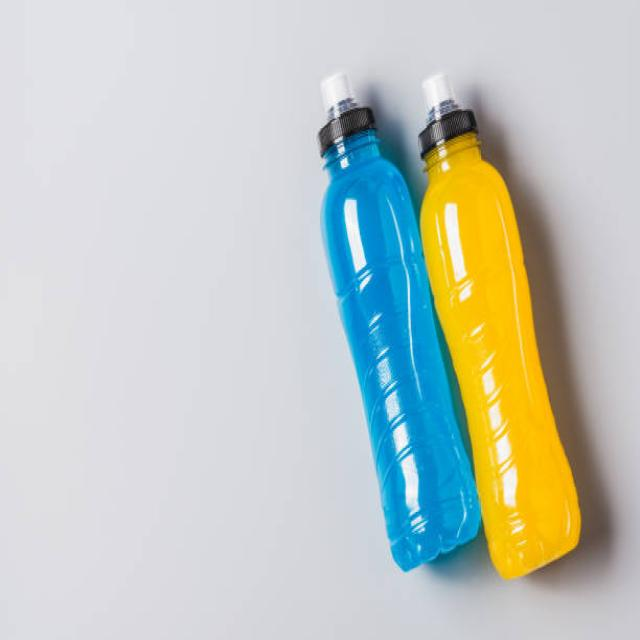blue_bottle: (298, 49, 491, 595)
